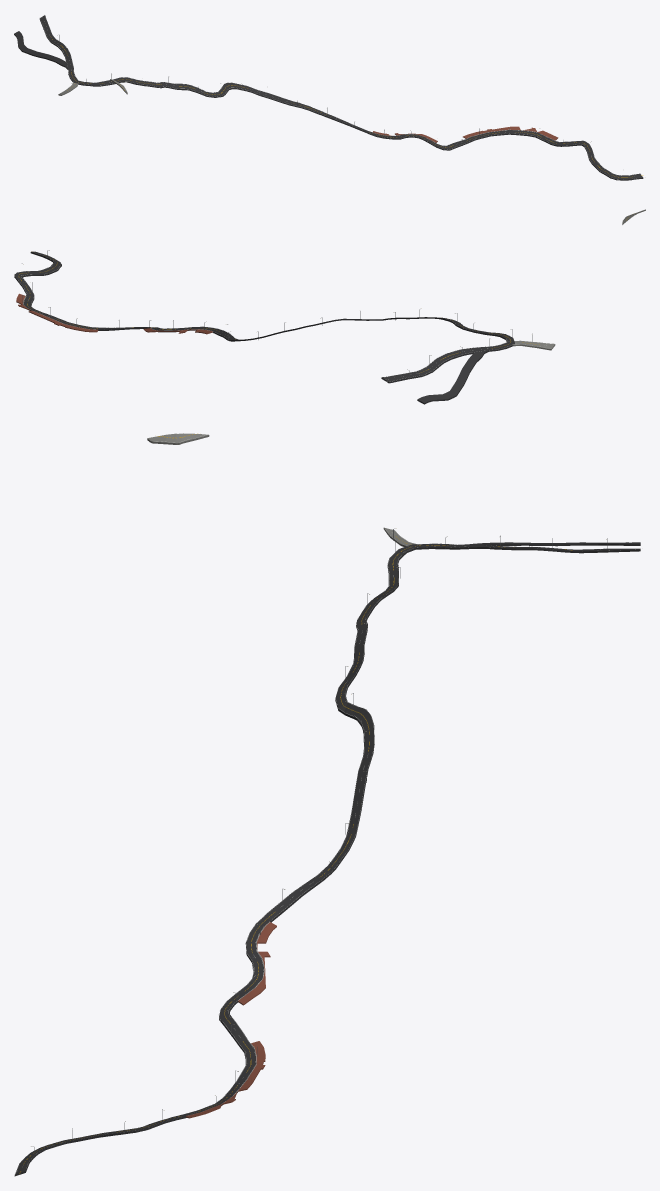
The picture shows the model from 3 angles, top to bottom: view 1: azimuth 30°, elevation 25°; view 2: azimuth 150°, elevation 25°; view 3: azimuth 270°, elevation 25°; orthographic projection. The views are drawn at different scales.
Bounding box in the file's own units: 590 × 208 × 371.
